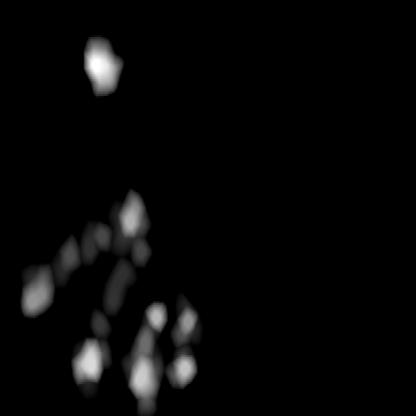fingers: (82, 34, 122, 96)
palm: (21, 222, 195, 410)
